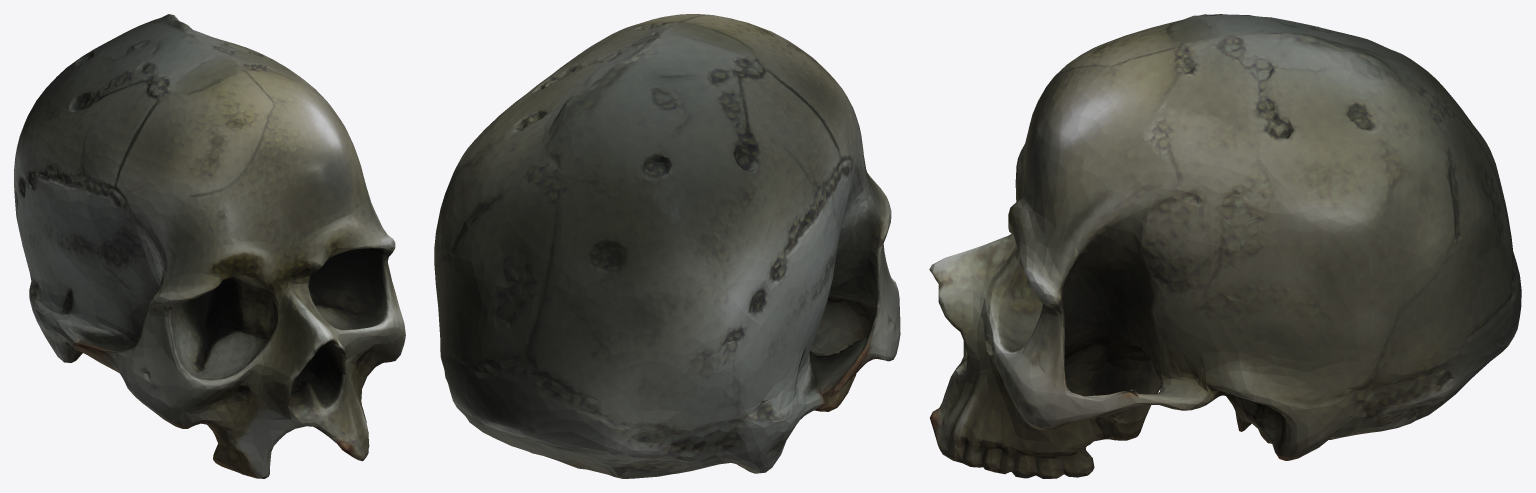
File: skull.glb
3 views of the same model, side by side, from view 1: azimuth 30°, elevation 25°; view 2: azimuth 150°, elevation 25°; view 3: azimuth 270°, elevation 25° (orthographic). The views are drawn at different scales.
Visible parts, largest first — view 1: world; view 2: world; view 3: world.
Part boxes in pixels (x1=…): world: x1=14, y1=14, x2=405, y2=478; world: x1=434, y1=14, x2=900, y2=478; world: x1=929, y1=14, x2=1521, y2=478.
Size of the model in its own units: 0.4927 by 0.5861 by 0.7521.
1 material, 1 textured.
